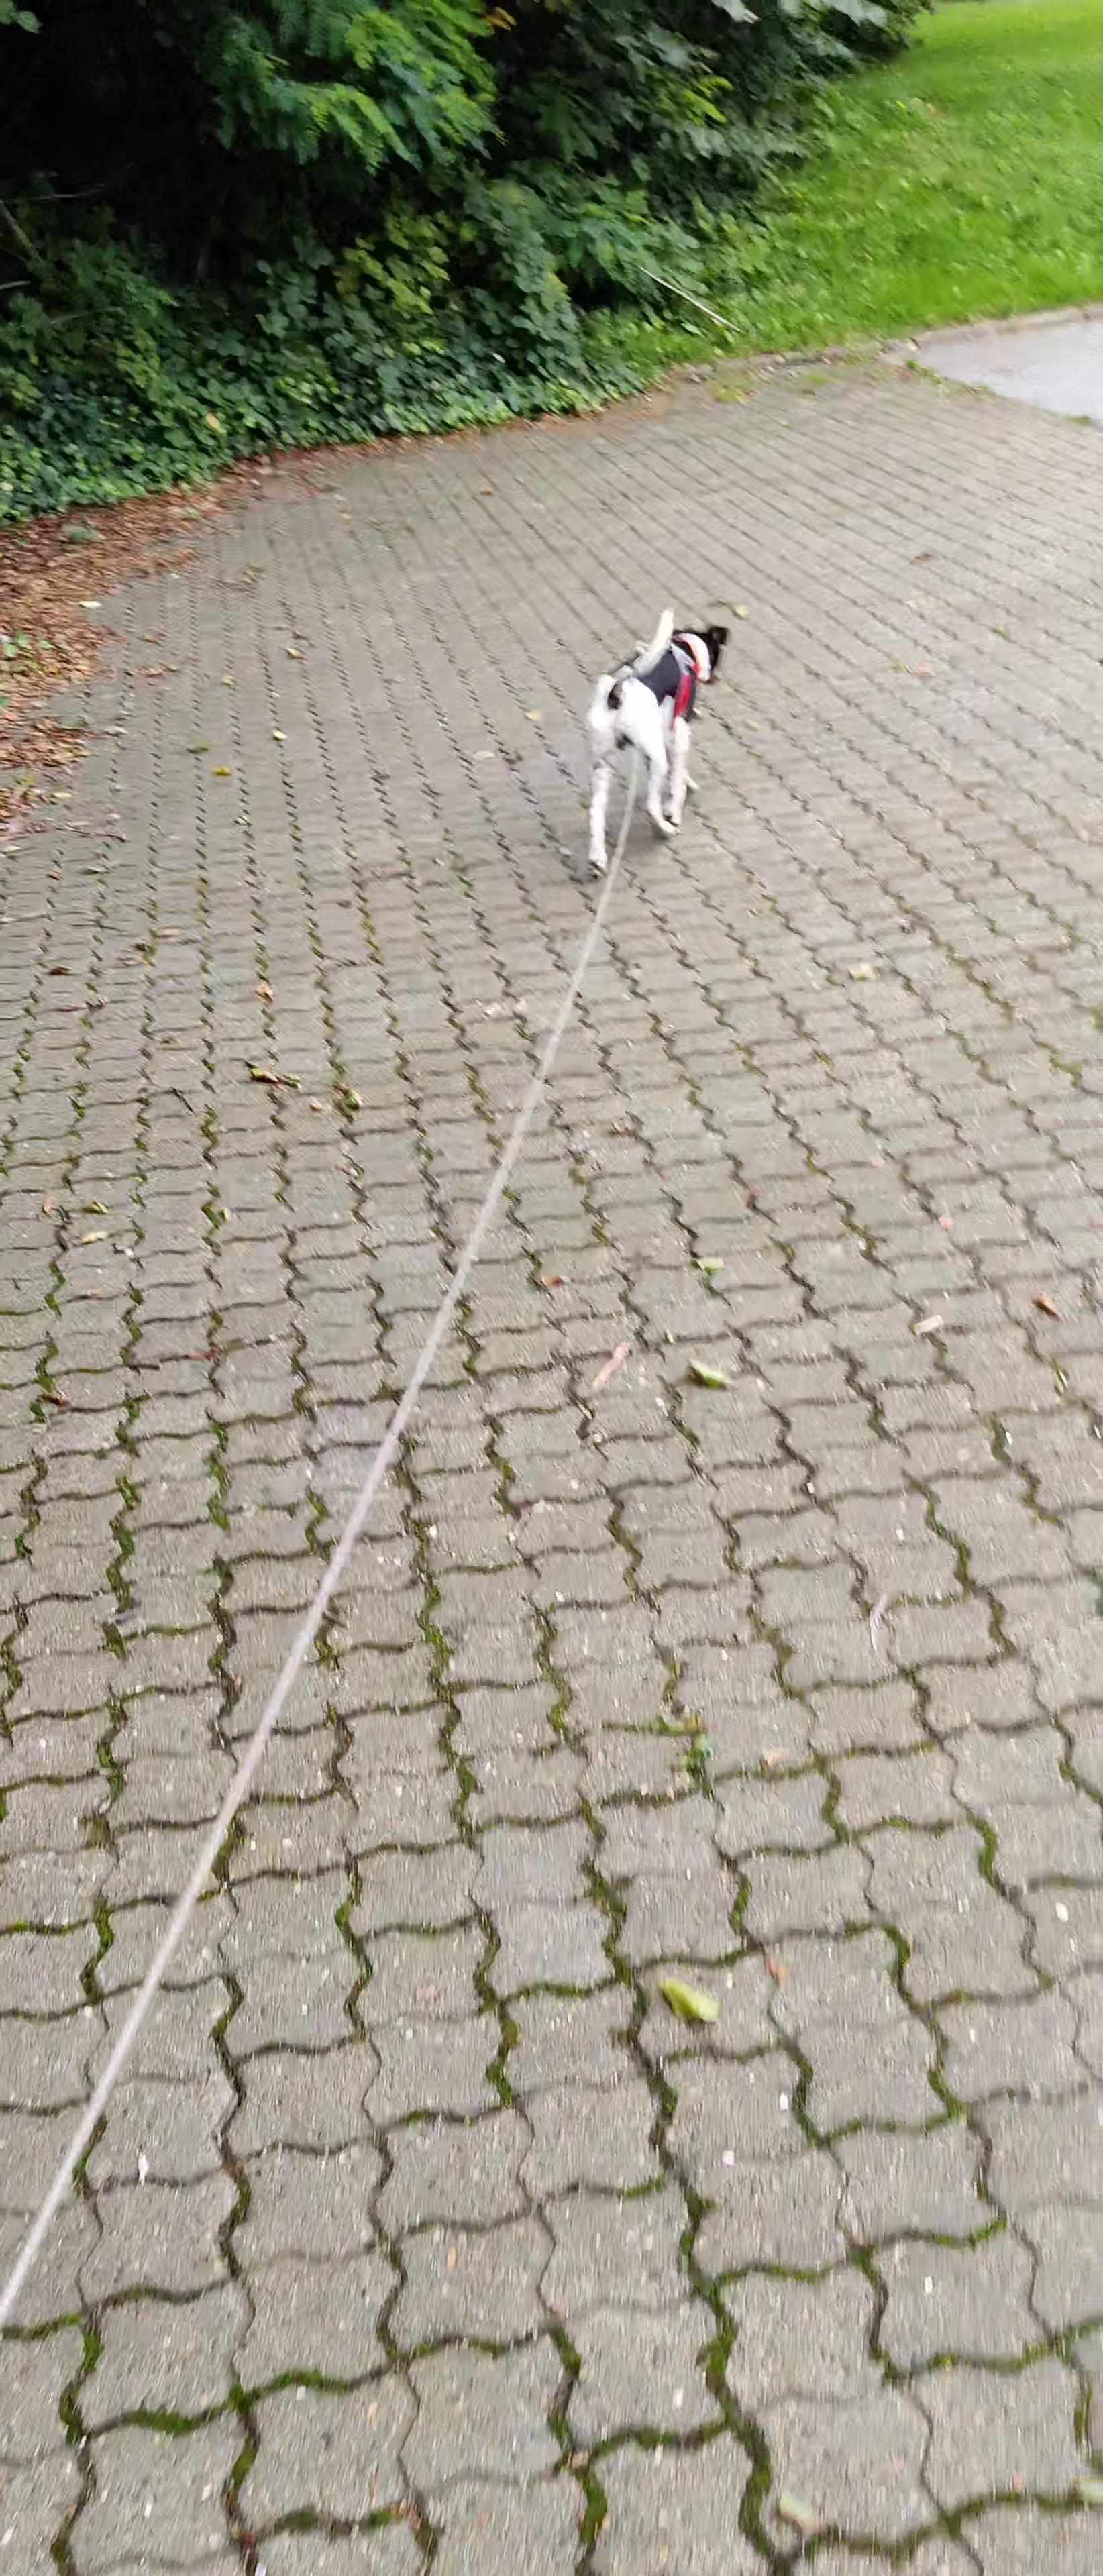Dog: (562, 598, 738, 897)
